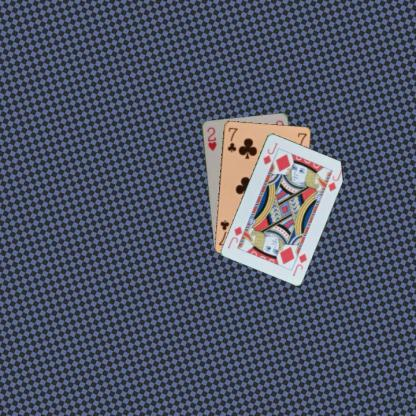2h: (205, 124, 217, 152)
7c: (224, 125, 238, 153)
Jd: (289, 251, 308, 277), (260, 140, 278, 166)
